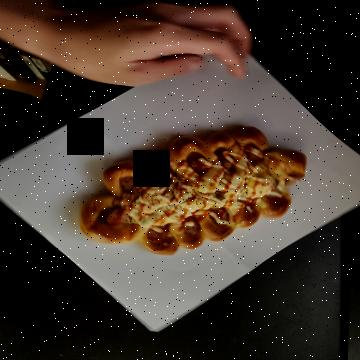pizza_bread: (114, 53, 240, 285)
